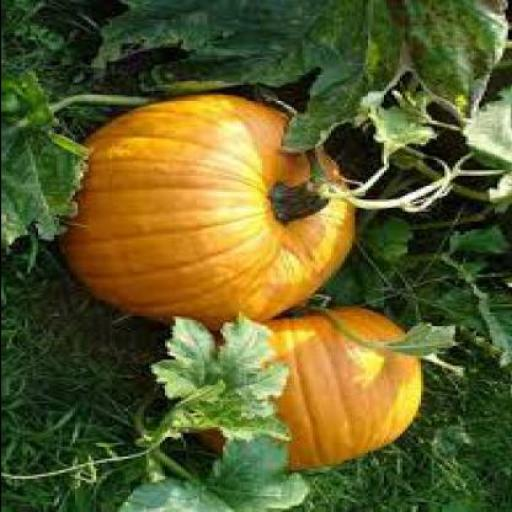biodegradable: (61, 91, 356, 326), (100, 0, 510, 159), (196, 298, 424, 468), (2, 67, 98, 253), (156, 316, 296, 443), (119, 439, 314, 510)
